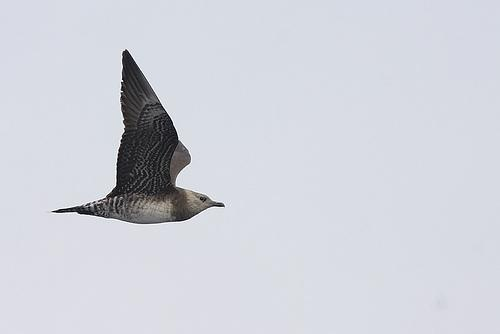bird: (49, 51, 227, 224)
